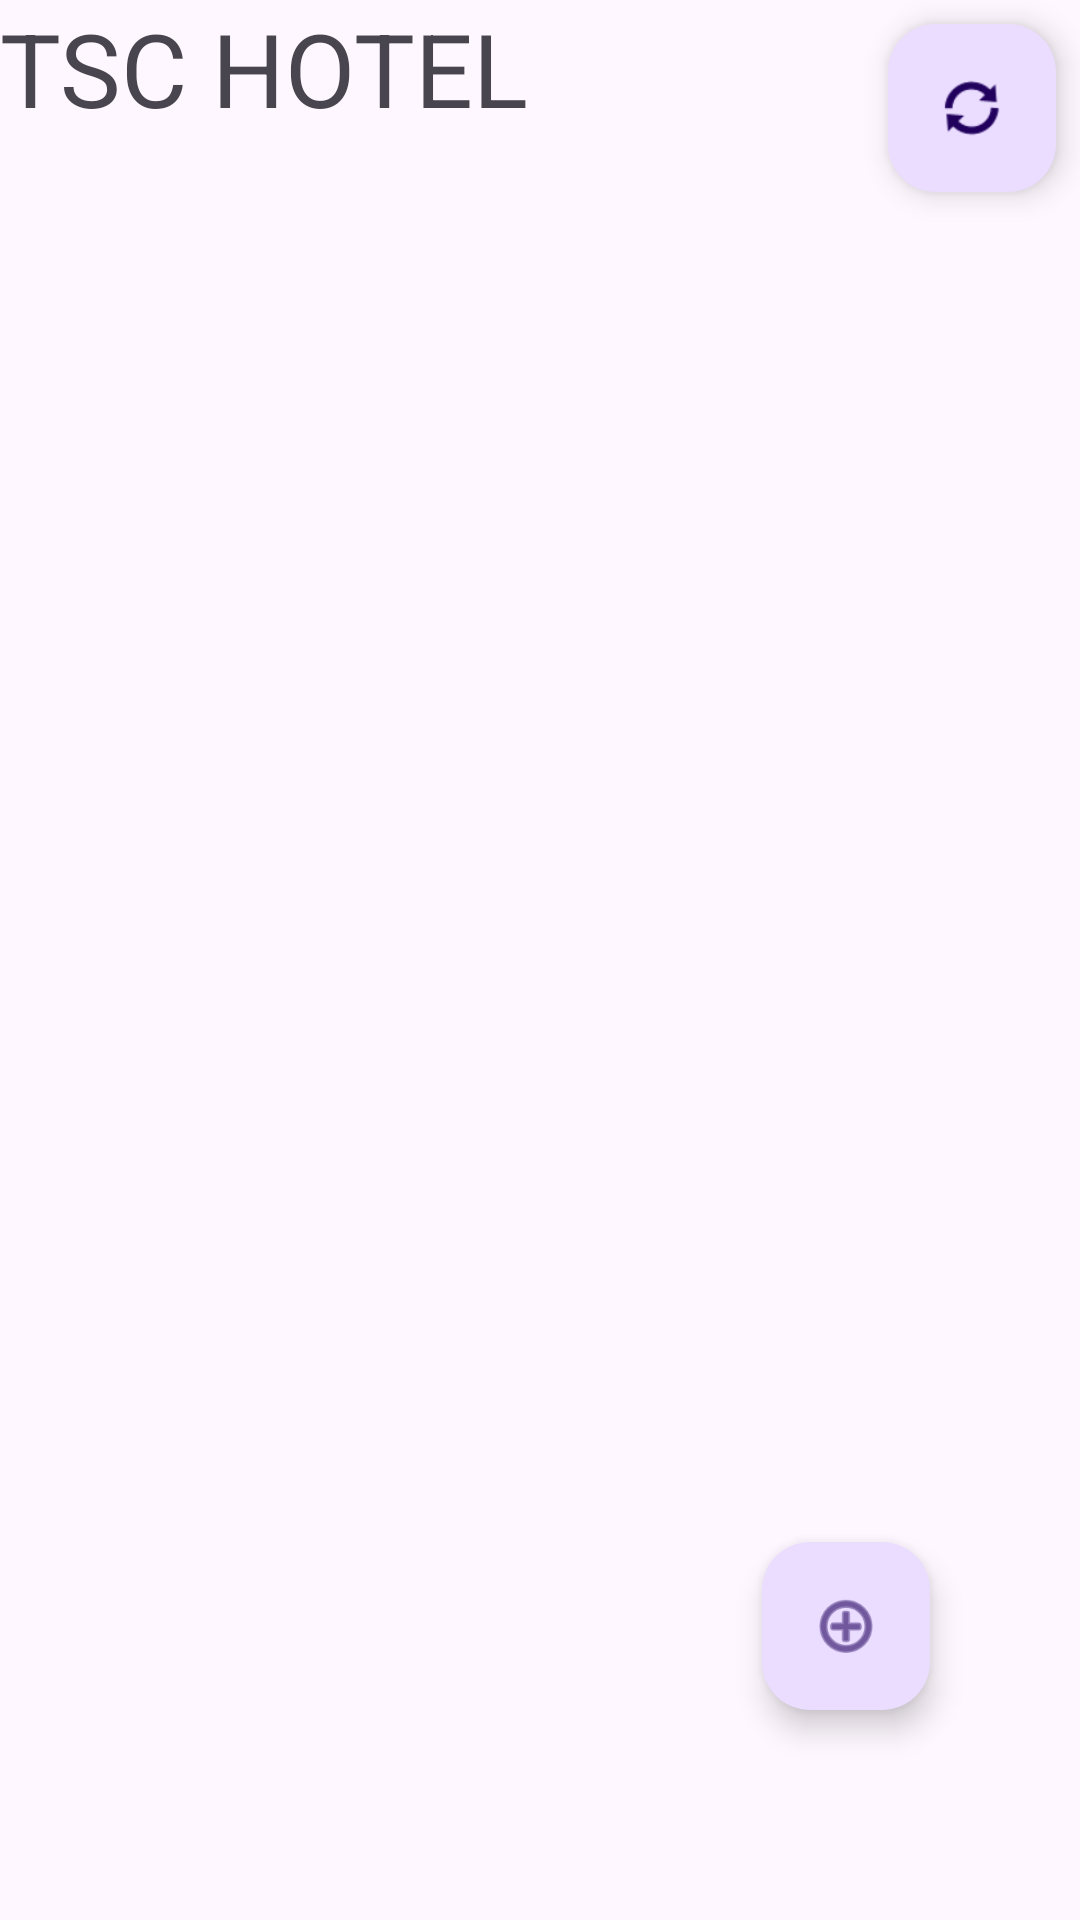

Named icons in this screenshot (1080*1920) and their bounding boxes, (x1,y1,x2,y2):
add: (762,1542,930,1710)
popup sync: (888,24,1056,192)
